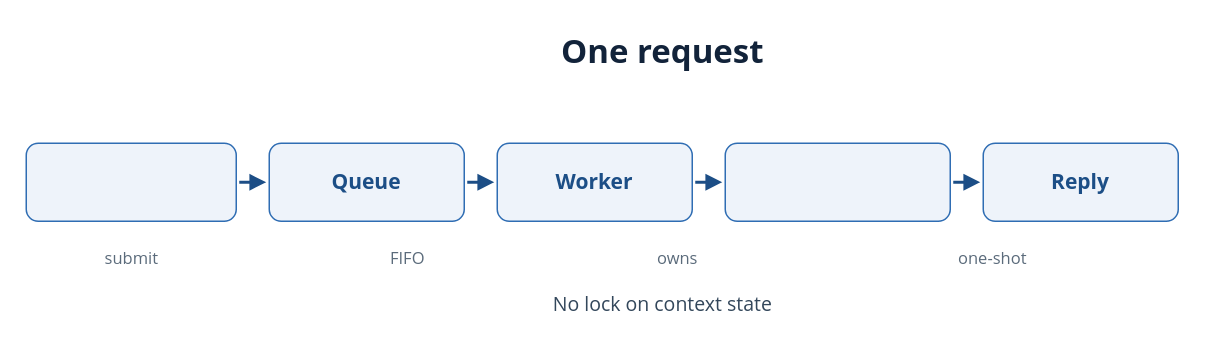
Image size: 1205x347. Some labels were removed from this diagram. The shapes that lost their labels are listed below. From the top down, each one's centre as x and y in pixels, then its label:
point 130,181: Producer
point 837,181: Shard map
